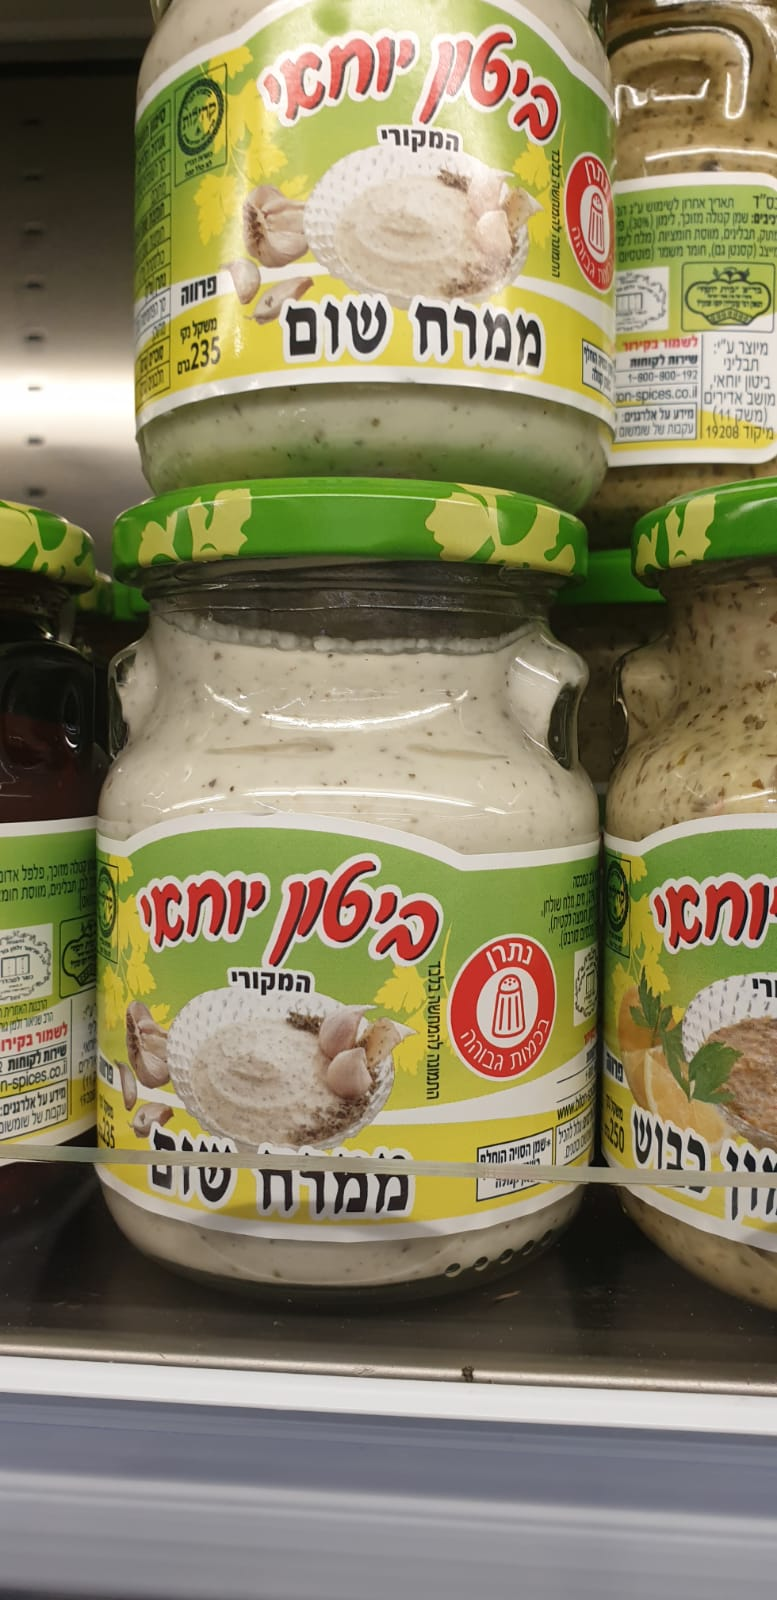salt: (447, 935, 559, 1083), (562, 151, 615, 293)
